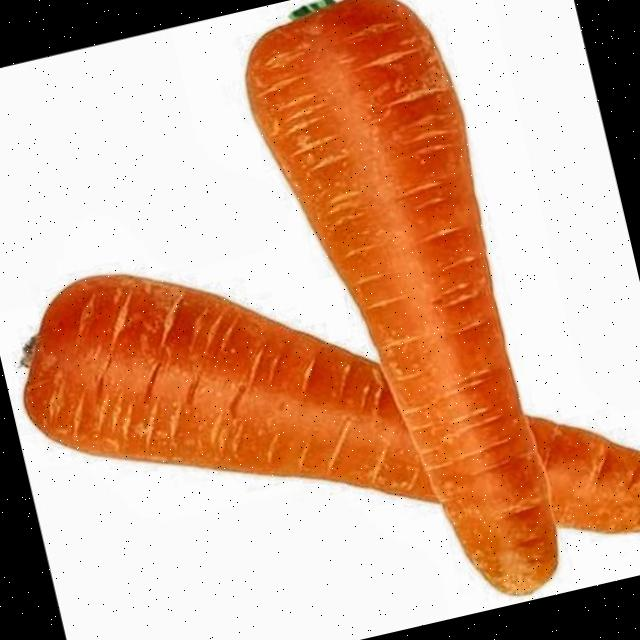carrot: (246, 0, 555, 593), (23, 275, 640, 532)
